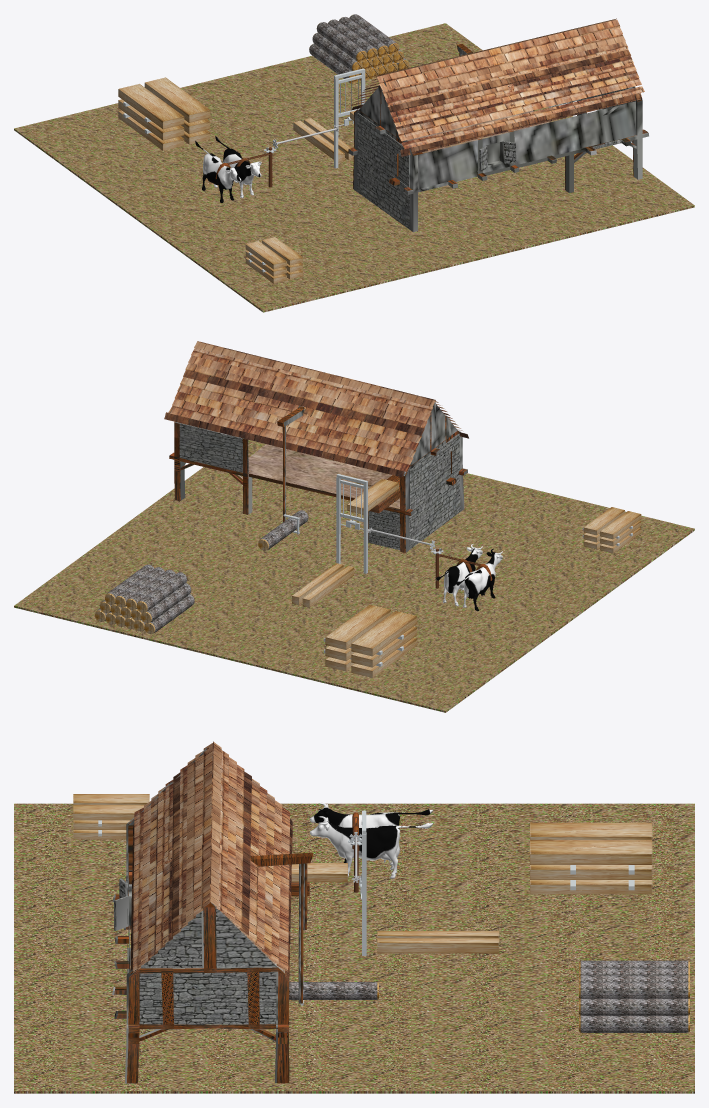
File: Sawmill_Human.fbx
The picture shows the model from 3 angles, top to bottom: view 1: azimuth 30°, elevation 25°; view 2: azimuth 150°, elevation 25°; view 3: azimuth 270°, elevation 25°; orthographic projection. The views are drawn at different scales.
Visible parts, largest first — view 1: Suelo, Terrat, Casa Part0, Listones 2, Troncos, Listones 2.001, VACAS, Sierra, Casa Part1; view 2: Suelo, Terrat, Casa Part0, Listones 2, Troncos, Casa Part1, VACAS, Listones 2.001, Sierra, Tronco; view 3: Suelo, Terrat, Casa Part0, Listones 2, Casa Part1, Troncos, VACAS, Listones 2.001, Tronco, Sierra.
Part boxes in pixels (bbox=[...]): Suelo: bbox=[14, 23, 694, 312]; Terrat: bbox=[350, 18, 644, 156]; Casa Part0: bbox=[348, 29, 648, 232]; Listones 2: bbox=[118, 77, 355, 162]; Troncos: bbox=[309, 14, 408, 83]; Listones 2.001: bbox=[245, 237, 303, 283]; VACAS: bbox=[195, 136, 268, 202]; Sierra: bbox=[334, 68, 365, 168]; Casa Part1: bbox=[348, 43, 647, 191]; Suelo: bbox=[14, 438, 694, 712]; Terrat: bbox=[164, 341, 468, 477]; Casa Part0: bbox=[175, 402, 467, 552]; Listones 2: bbox=[292, 479, 417, 677]; Troncos: bbox=[95, 564, 194, 633]; Casa Part1: bbox=[169, 406, 466, 552]; VACAS: bbox=[436, 544, 502, 611]; Listones 2.001: bbox=[583, 507, 641, 553]; Sierra: bbox=[336, 474, 369, 573]; Tronco: bbox=[258, 510, 308, 550]; Suelo: bbox=[14, 803, 694, 1093]; Terrat: bbox=[130, 741, 292, 982]; Casa Part0: bbox=[112, 748, 307, 1083]; Listones 2: bbox=[291, 822, 652, 953]; Casa Part1: bbox=[114, 747, 312, 1083]; Troncos: bbox=[579, 960, 689, 1032]; VACAS: bbox=[309, 803, 433, 878]; Listones 2.001: bbox=[73, 794, 149, 839]; Tronco: bbox=[289, 982, 378, 999]; Sierra: bbox=[359, 810, 366, 955].
Bounding box in the file's own units: 1454 × 445 × 1454.
Materials: 10 (8 with a texture image).
